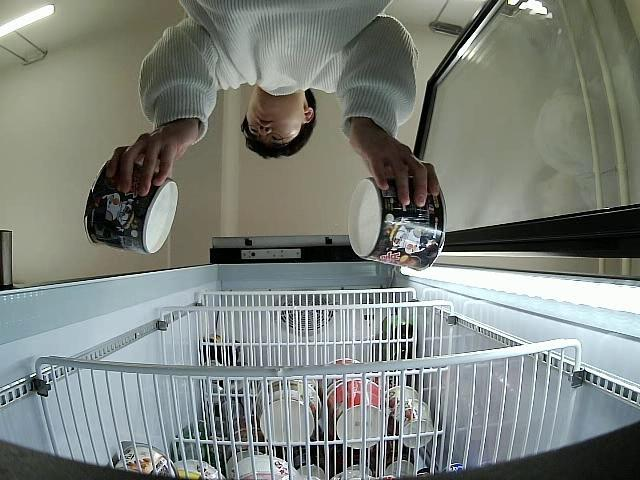07_buldak_L: (350, 173, 447, 272), (84, 158, 181, 256)
